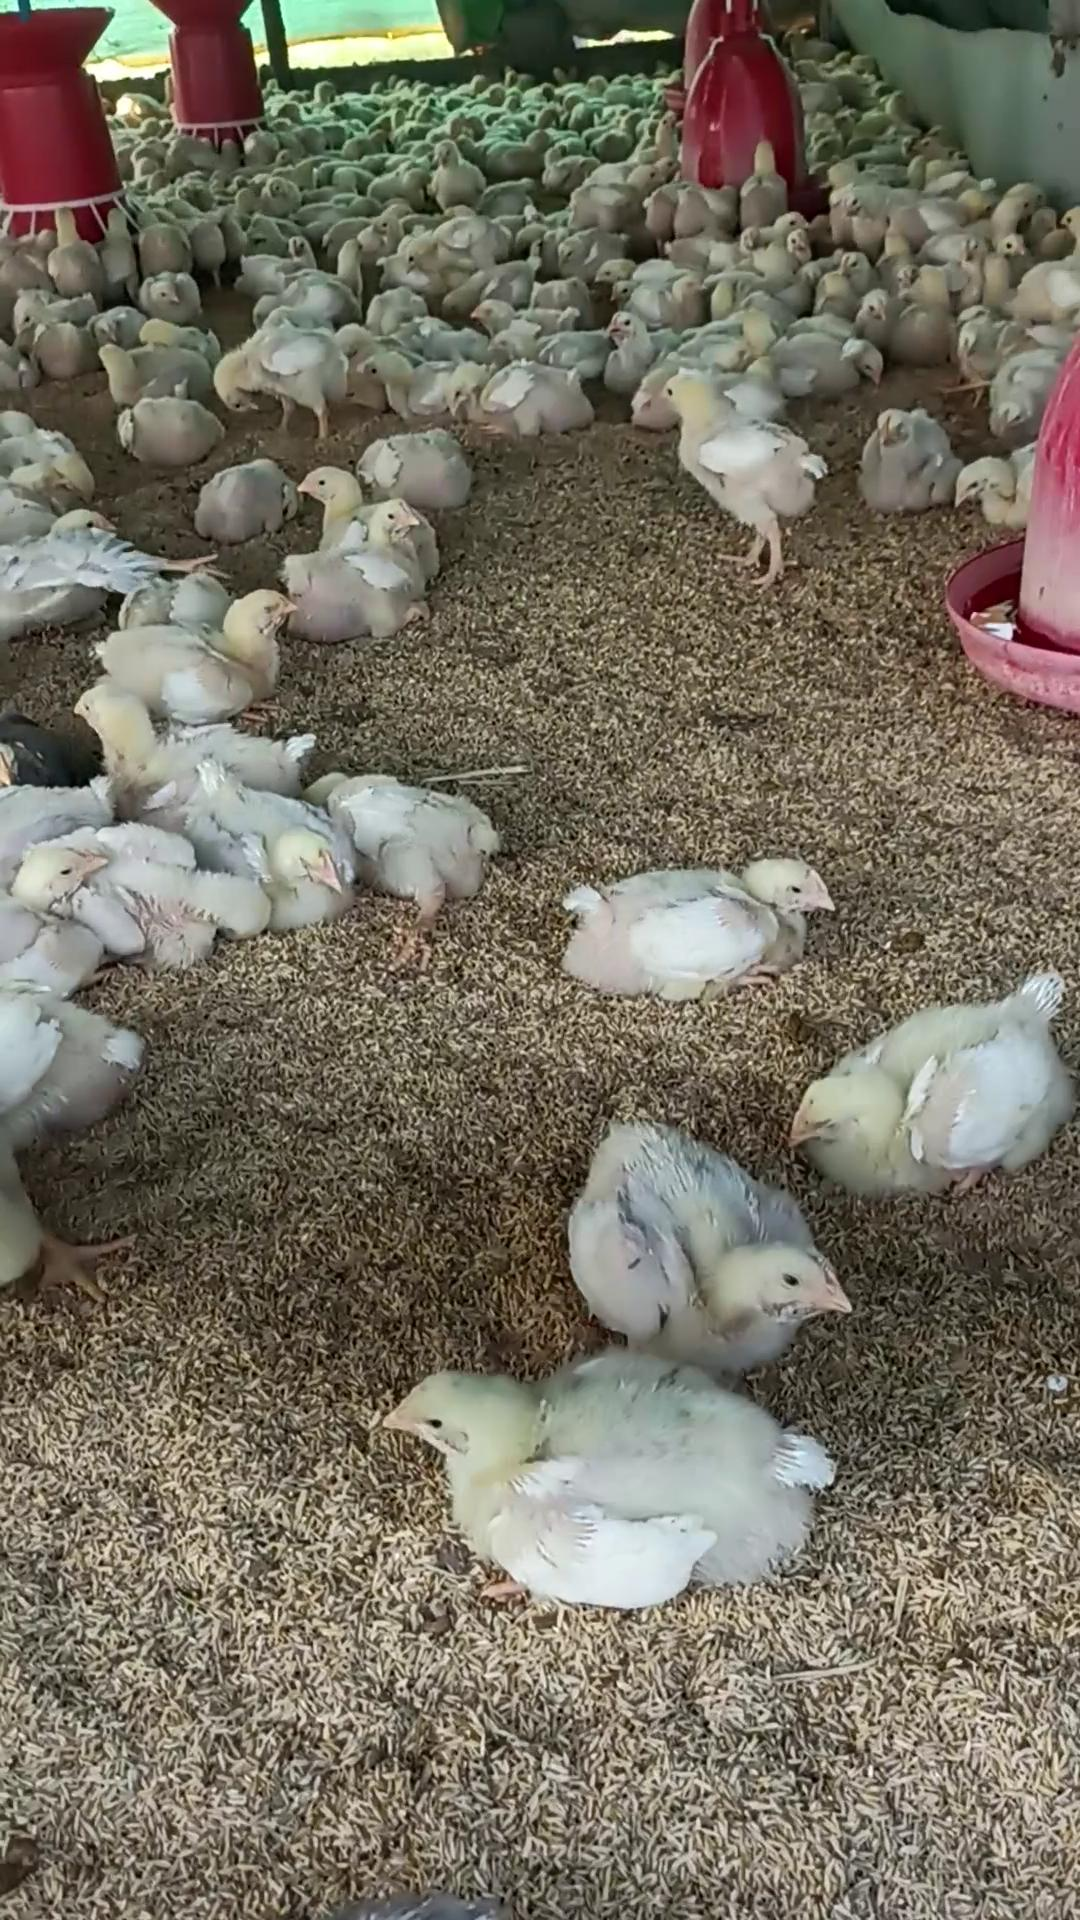Pollos: (382, 1349, 828, 1600), (564, 1114, 851, 1336), (796, 967, 1065, 1195), (555, 853, 837, 1004), (141, 765, 353, 932), (319, 760, 501, 907), (649, 376, 818, 533), (84, 589, 297, 712), (294, 496, 429, 646), (0, 835, 103, 996), (214, 316, 353, 425), (0, 505, 119, 615), (464, 351, 592, 436), (865, 407, 953, 512), (87, 336, 206, 405), (853, 289, 963, 361)
